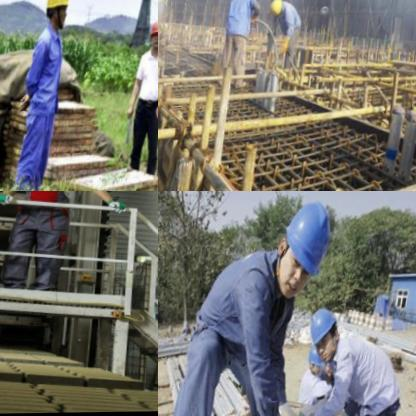helmet: (272, 192, 344, 305), (306, 304, 345, 363), (41, 0, 74, 37), (305, 346, 330, 379), (147, 14, 158, 56), (269, 0, 287, 18)
